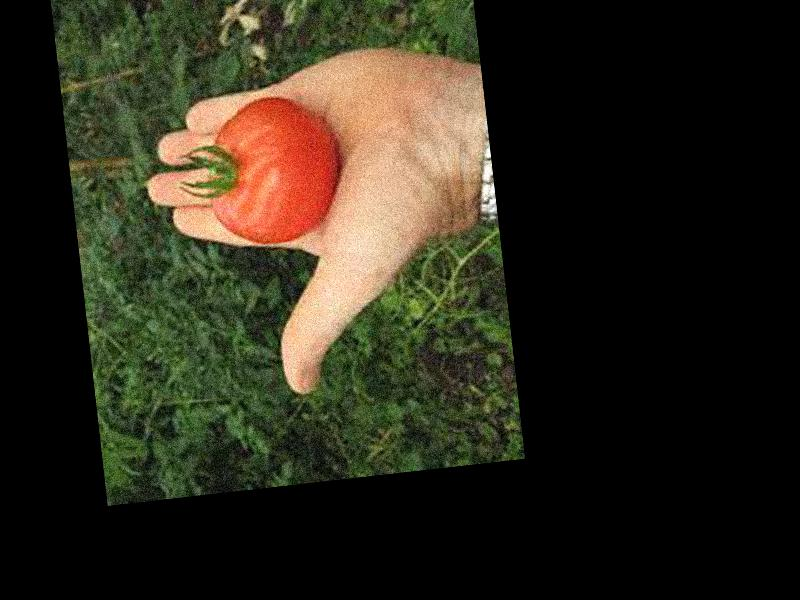Tomato: (202, 88, 345, 251)
